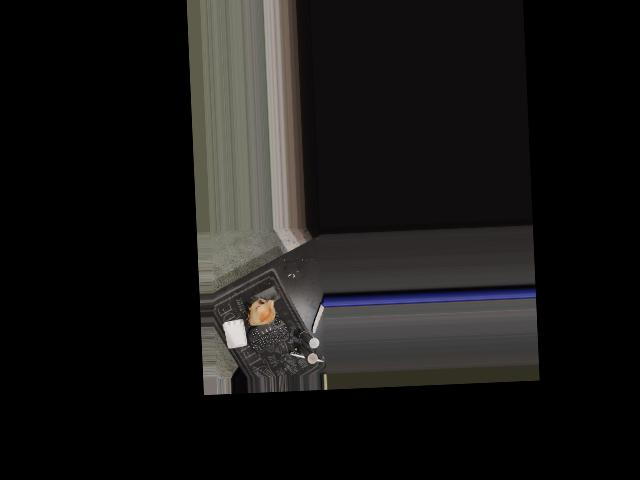onion: (246, 298, 277, 328)
